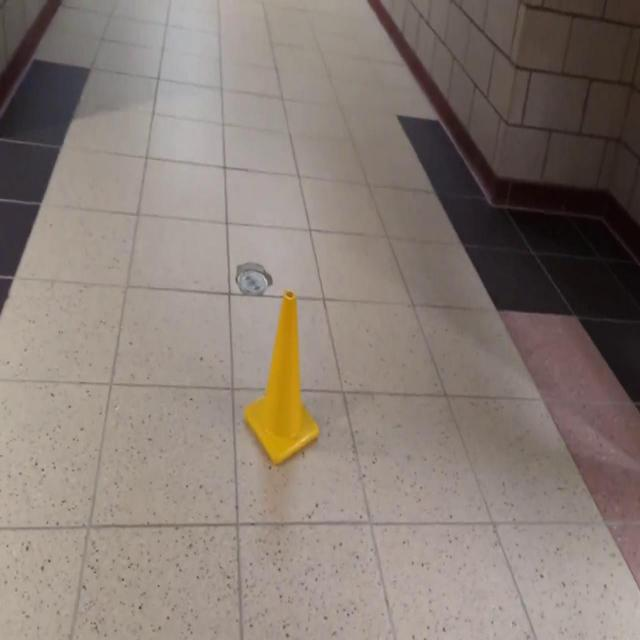frc_cone: (242, 289, 320, 466)
